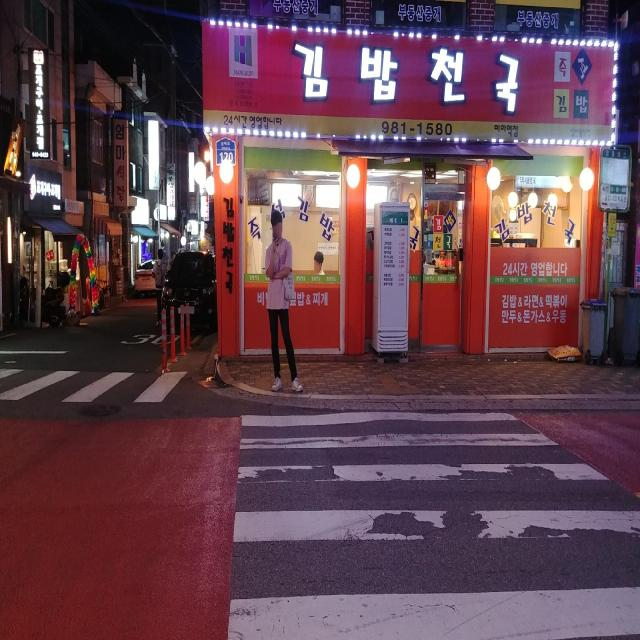횡단보도: (226, 411, 640, 640), (0, 367, 195, 402)
